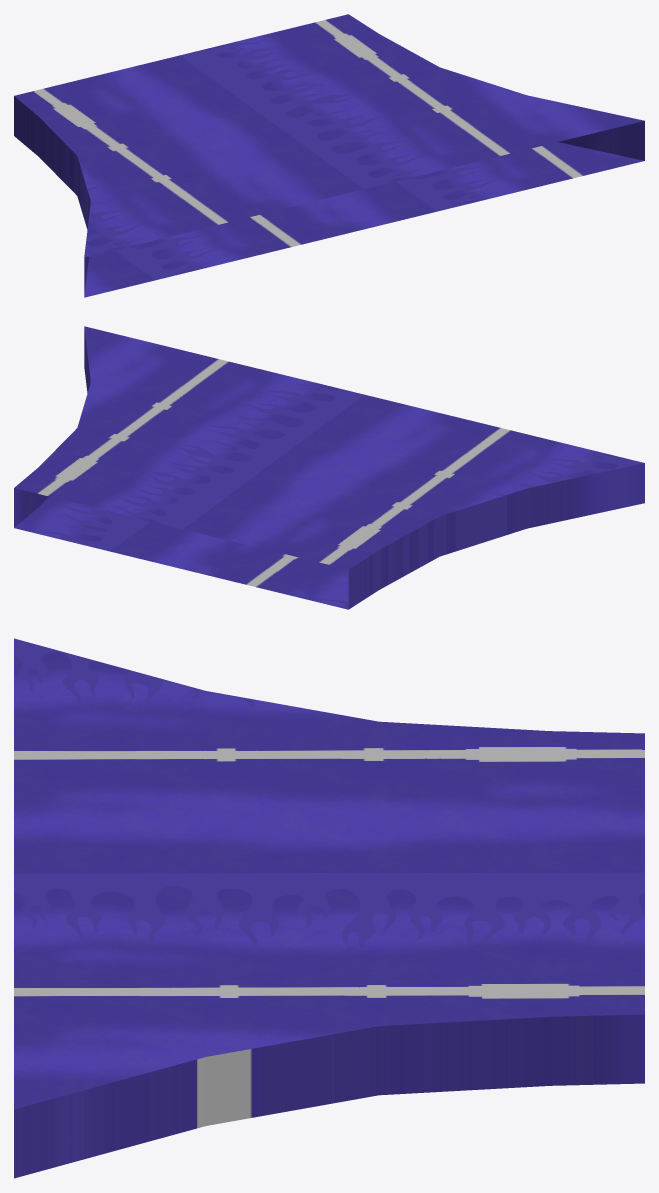
File: PV_funnel.fbx
The picture shows the model from 3 angles, top to bottom: view 1: azimuth 30°, elevation 25°; view 2: azimuth 150°, elevation 25°; view 3: azimuth 270°, elevation 25°; orthographic projection. The views are drawn at different scales.
Visible parts, largest first — view 1: scale4; view 2: scale4; view 3: scale4.
Boxes of the visible parts, bbox=[...] form: scale4: bbox=[14, 14, 644, 297]; scale4: bbox=[14, 326, 644, 609]; scale4: bbox=[14, 638, 644, 1178].
Size of the model in its own units: 3988 by 273 by 2258.
